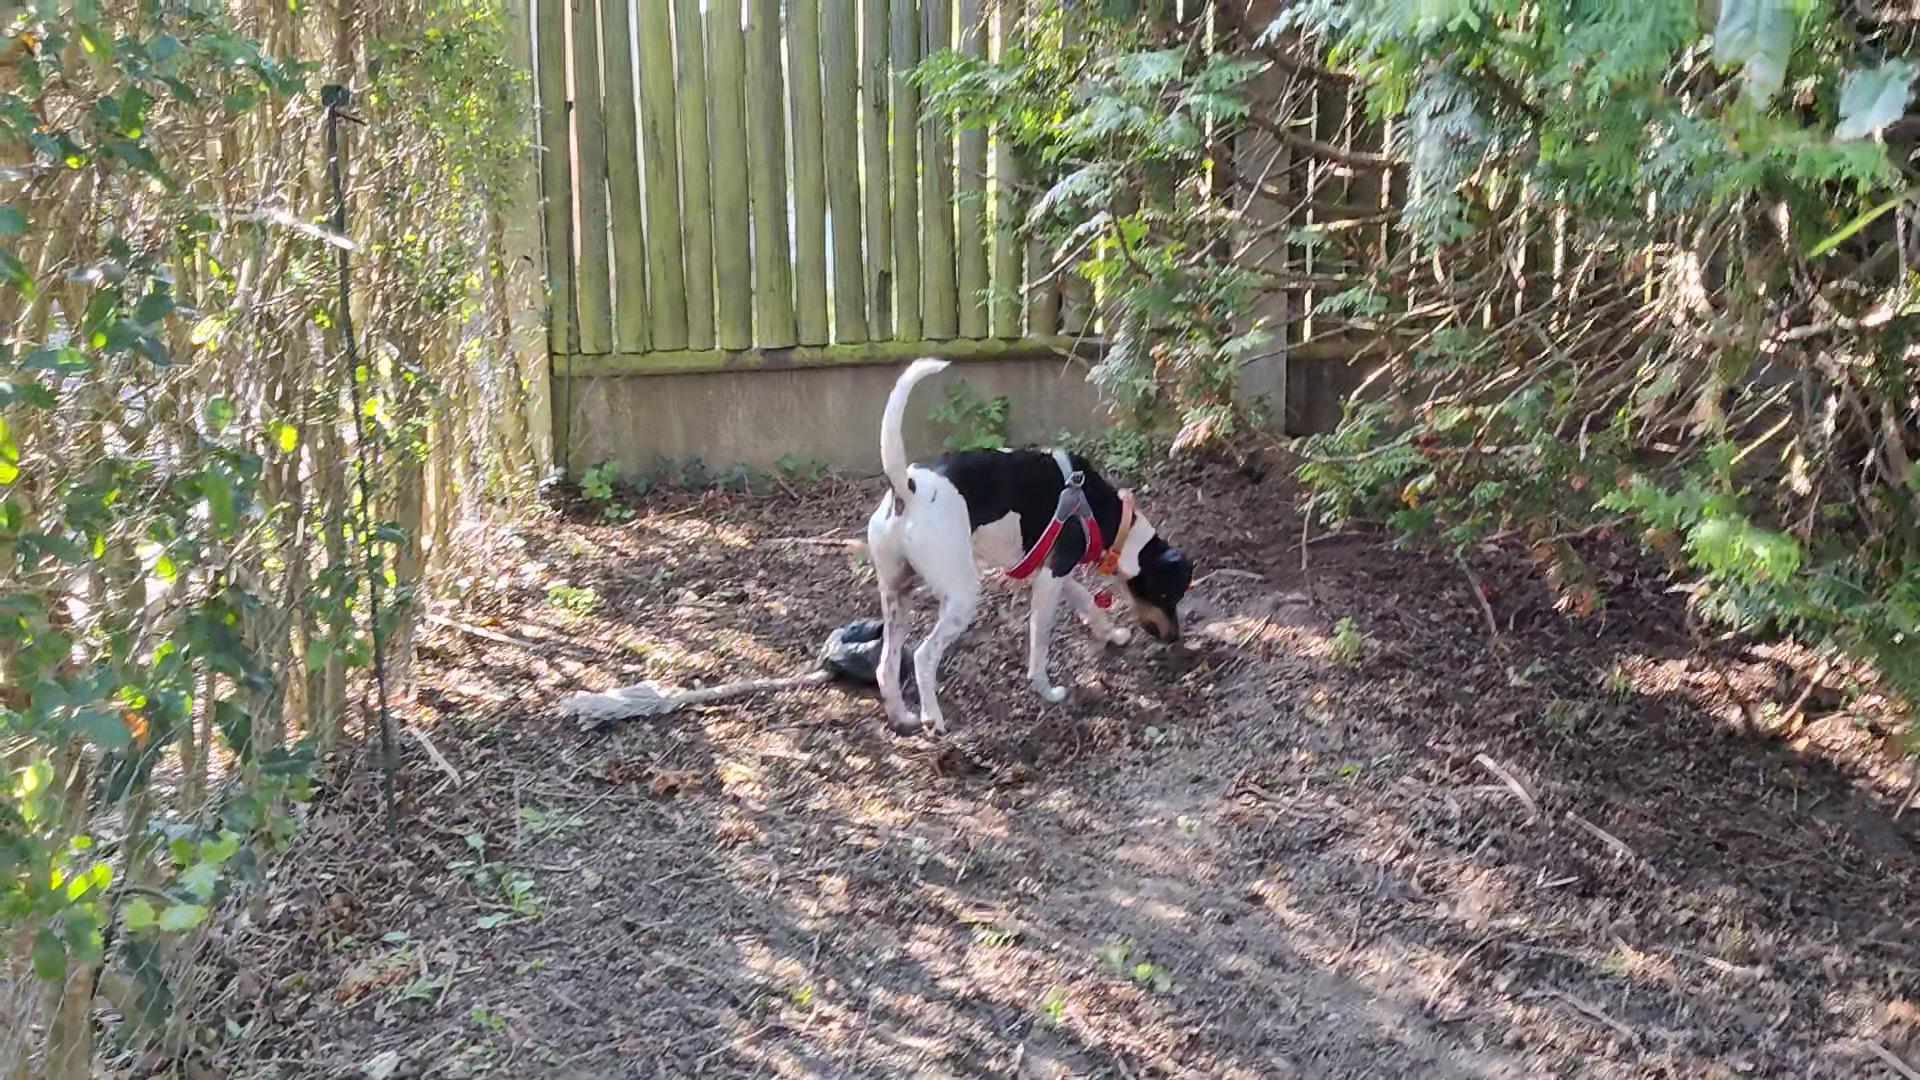Dog: (858, 345, 1201, 748)
